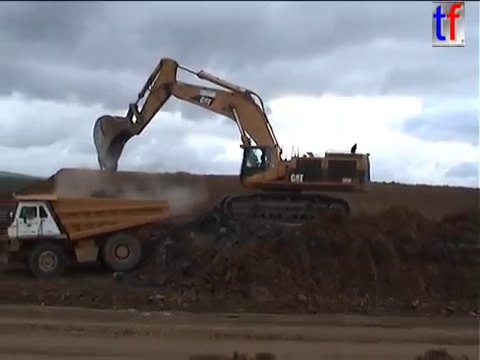excavator: (90, 55, 372, 227)
truck: (4, 190, 171, 279)
